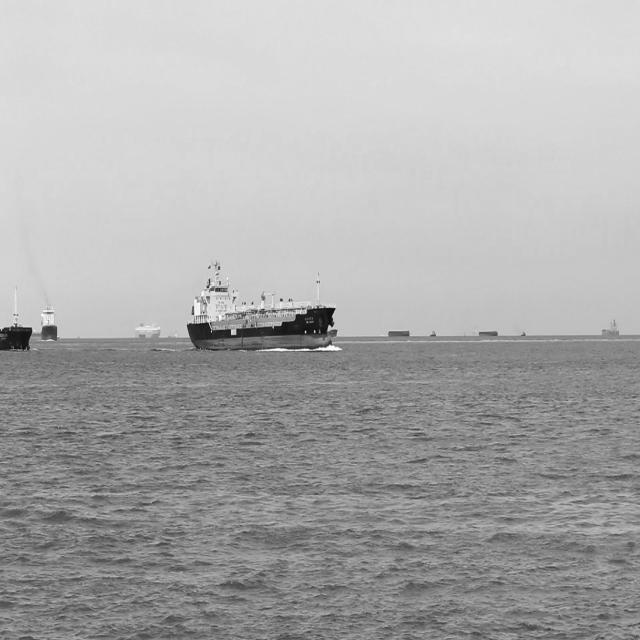ship: (186, 254, 338, 353), (0, 280, 33, 352), (40, 300, 59, 341), (133, 322, 160, 341), (601, 316, 622, 340), (328, 327, 339, 339), (34, 327, 42, 340)
